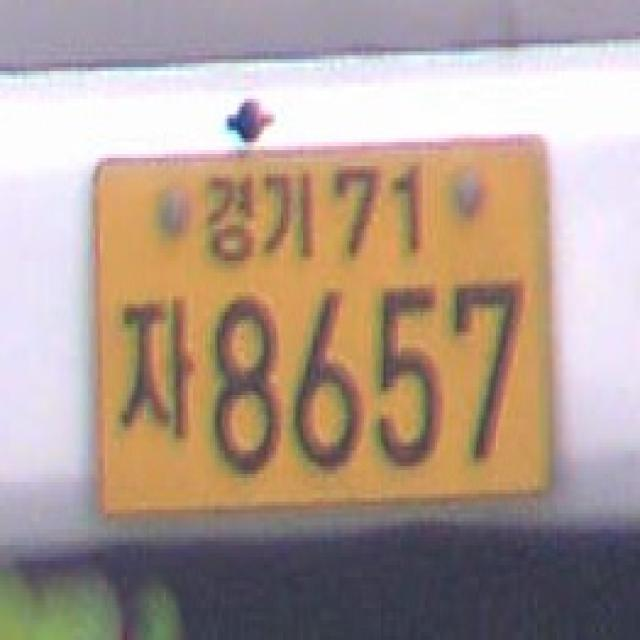plat: (90, 133, 553, 515)
